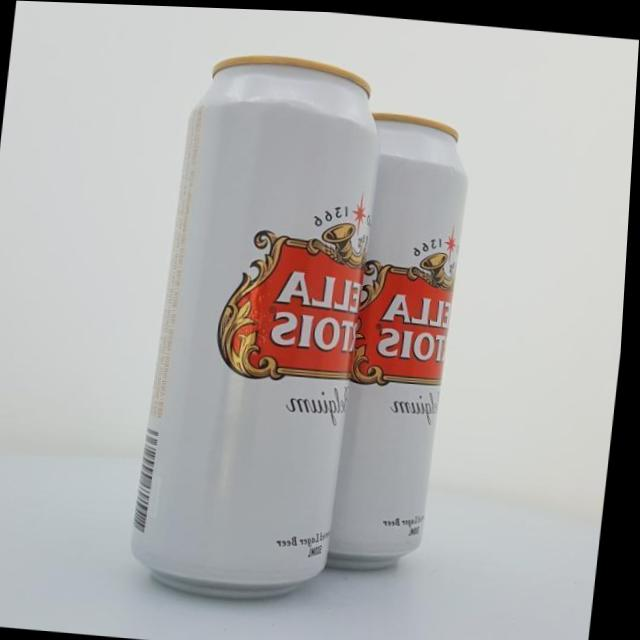metal: (126, 45, 390, 608), (255, 104, 475, 575)
